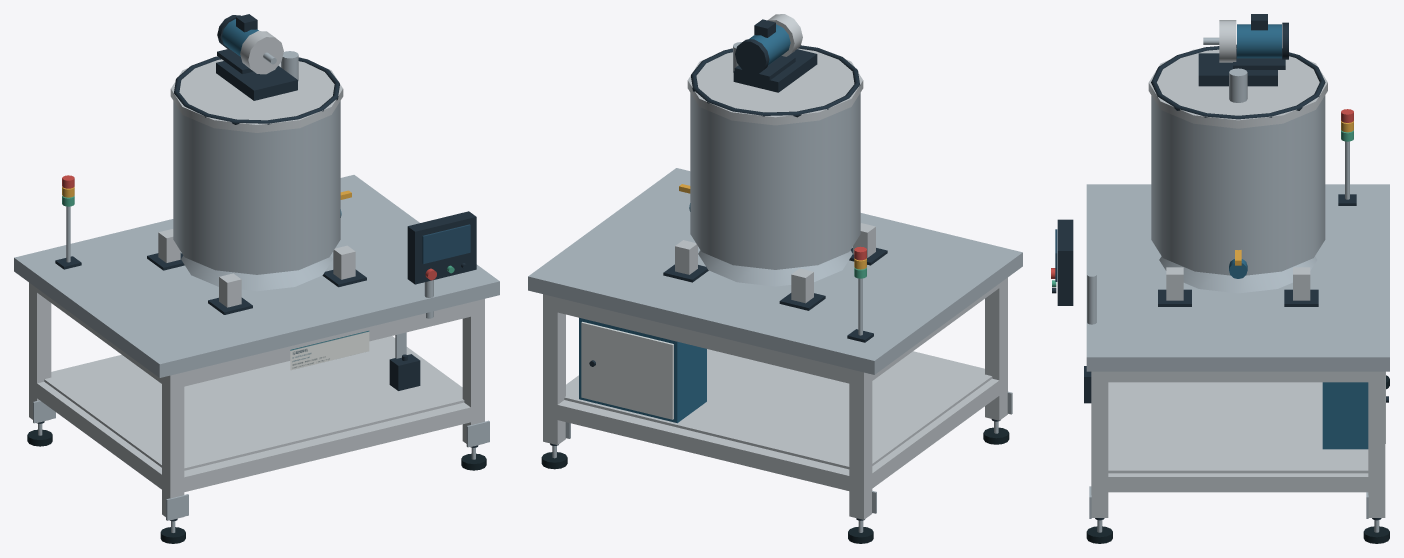
File: planetary-mixer-cell.glb
3 views of the same model, side by side, from view 1: azimuth 30°, elevation 25°; view 2: azimuth 150°, elevation 25°; view 3: azimuth 270°, elevation 25° (orthographic). The views are drawn at different scales.
Parts seen in each view (by area): view 1: ClosedMachineBed_28, LowerShelf_29, VesselBody_56, VesselLid_58, SlottedExtrusion_22, SlottedExtrusion_23, SlottedExtrusion_8, SlottedExtrusion_24, ConsoleBack_34, SlottedExtrusion_18, SlottedExtrusion_3, LowerDishedEnd_57 (+11 smaller); view 2: ClosedMachineBed_28, VesselBody_56, LowerShelf_29, VesselLid_58, BackDoor_31, SlottedExtrusion_20, SlottedExtrusion_21, SlottedExtrusion_3, Cabinet_30, SlottedExtrusion_13, SlottedExtrusion_24, SlottedExtrusion_8 (+10 smaller); view 3: ClosedMachineBed_28, VesselBody_56, LowerShelf_29, VesselLid_58, SlottedExtrusion_26, SlottedExtrusion_27, Cabinet_30, SlottedExtrusion_18, SlottedExtrusion_13, LowerDishedEnd_57, LidGasket_59, AgitatorBridge_75 (+10 smaller).
Boxes of the visible parts, x1,y1,x2,y2 form: ClosedMachineBed_28: (14,175,499,377); LowerShelf_29: (44,337,464,470); VesselBody_56: (173,101,340,274); VesselLid_58: (170,57,343,132); SlottedExtrusion_22: (184,402,477,491); SlottedExtrusion_23: (177,300,477,387); SlottedExtrusion_8: (162,372,184,520); SlottedExtrusion_24: (33,382,161,489); ConsoleBack_34: (407,211,476,284); SlottedExtrusion_18: (462,299,484,446); SlottedExtrusion_3: (29,282,51,422); LowerDishedEnd_57: (181,255,332,291); ClosedMachineBed_28: (528,168,1022,374); VesselBody_56: (690,93,860,269); LowerShelf_29: (564,349,992,469); VesselLid_58: (687,48,863,125); BackDoor_31: (581,321,673,419); SlottedExtrusion_20: (557,400,849,490); SlottedExtrusion_21: (550,296,855,383); SlottedExtrusion_3: (849,369,872,519); Cabinet_30: (579,317,706,423); SlottedExtrusion_13: (543,294,565,444); SlottedExtrusion_24: (868,378,999,491); SlottedExtrusion_8: (985,277,1007,420); ClosedMachineBed_28: (1086,184,1389,371); VesselBody_56: (1151,95,1325,275); LowerShelf_29: (1108,382,1368,473); VesselLid_58: (1148,49,1327,128); SlottedExtrusion_26: (1100,473,1376,492); SlottedExtrusion_27: (1099,371,1376,382); Cabinet_30: (1322,382,1368,449); SlottedExtrusion_18: (1091,371,1108,517); SlottedExtrusion_13: (1368,371,1385,517); LowerDishedEnd_57: (1159,256,1316,293); LidGasket_59: (1151,44,1325,119); AgitatorBridge_75: (1198,53,1277,86).
Bounding box in the file's own units: 1.55 × 1.86 × 1.29.
Materials: 11 (1 with a texture image).
